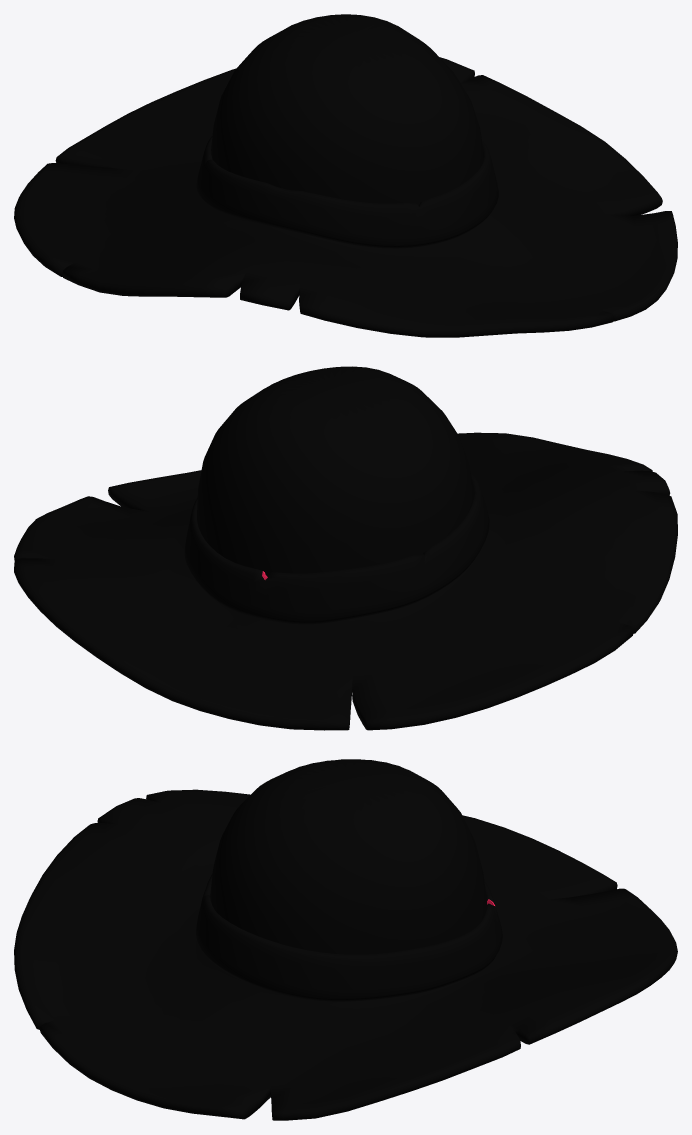
Rendered from luffy_hat.fbx.
3 renders of one model, top to bottom at view 1: azimuth 30°, elevation 25°; view 2: azimuth 150°, elevation 25°; view 3: azimuth 270°, elevation 25°, orthographic. The views are drawn at different scales.
Parts seen in each view (by area): view 1: node_0cfd0027_433b_4582_ada2_8628b460211d_mesh0; view 2: node_0cfd0027_433b_4582_ada2_8628b460211d_mesh0; view 3: node_0cfd0027_433b_4582_ada2_8628b460211d_mesh0.
Part boxes in pixels (box(x1,y1,x2,y2)): node_0cfd0027_433b_4582_ada2_8628b460211d_mesh0: box(14, 14, 677, 337); node_0cfd0027_433b_4582_ada2_8628b460211d_mesh0: box(14, 366, 677, 730); node_0cfd0027_433b_4582_ada2_8628b460211d_mesh0: box(14, 759, 677, 1120).
Bounding box in the file's own units: 221 × 81.73 × 224.
Materials: 2 (1 with a texture image).
